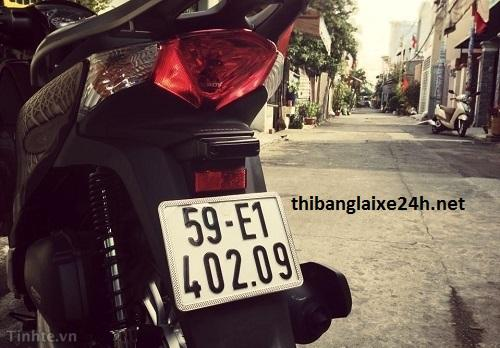numplate: (154, 190, 302, 310)
